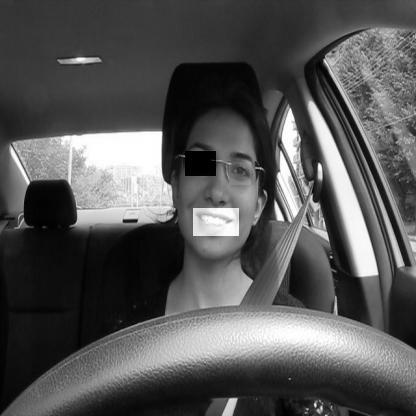seatbelt: (152, 70, 302, 416)
